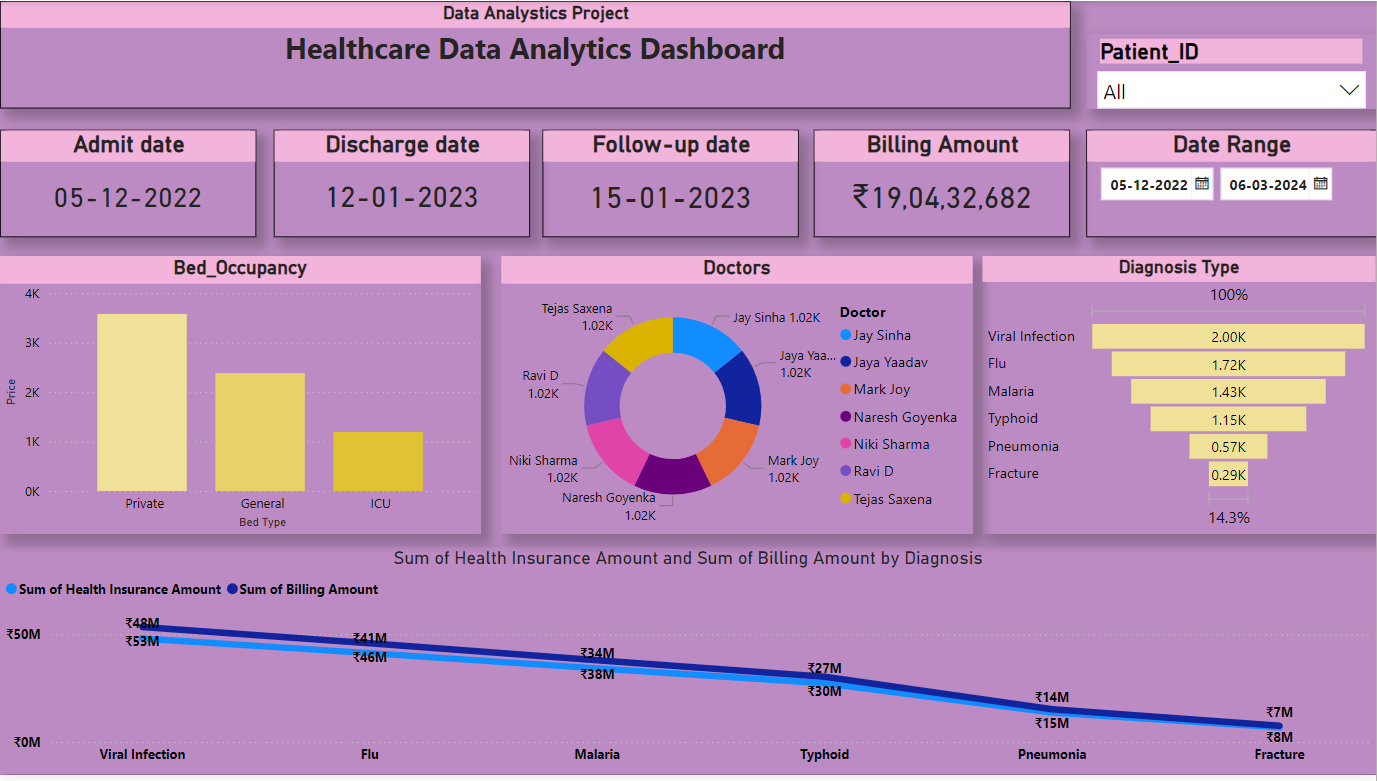

What the dashboard file says about the page in this screenshot:
{"tool":"powerbi","page":{"name":"Page 1","canvas":[1280,720],"ordinal":0},"visuals":[{"type":"slicer","fields":{"Values":["Sheet1.Patient_ID"]},"box":[1010,30,270,70],"z":0},{"type":"card","title":"Admit date","fields":{"Values":["Sheet1.Admit_Date"]},"box":[0,120,238.6,100],"z":1},{"type":"card","title":"Discharge date","fields":{"Values":["Sheet1.Discharge_Date"]},"box":[254.3,120,238.6,100],"z":2},{"type":"card","title":"Follow-up date","fields":{"Values":["Sheet1.Followup Date"]},"box":[504.3,120,238.6,100],"z":3},{"type":"card","title":"Billing Amount","fields":{"Values":["Sheet1.Billing Amount"]},"box":[757.1,120,238.6,100],"z":4},{"type":"textbox","title":"Data Analystics Project","box":[0,0,995.7,100],"z":5},{"type":"slicer","title":"Date Range","fields":{"Values":["Sheet1.Admit_Date"]},"box":[1010,120,270,100],"z":6},{"type":"columnChart","title":" Bed_Occupancy","fields":{"Category":["Sheet1.Bed_Occupancy"],"Y":["Sheet1.Bed_Occupancy"]},"box":[0,237.1,447.1,258.6],"z":7},{"type":"donutChart","title":" Doctors","fields":{"Category":["Sheet1.Doctor"],"Y":["Sheet1.Doctor"]},"box":[465.7,237.1,438.6,258.6],"z":8},{"type":"funnel","title":" Diagnosis Type","fields":{"Category":["Sheet1.Diagnosis"],"Y":["Sheet1.Diagnosis"]},"box":[914.3,237.1,365.7,258.6],"z":9},{"type":"lineChart","fields":{"Y":["Sheet1.Health Insurance Amount","Sheet1.Billing Amount"],"Category":["Sheet1.Diagnosis"]},"box":[0,508.6,1280,211.4],"z":10}]}

Visuals, with their boxes in screenshot pixels (x1, y1, x2, y2), scaled from the page's 1280x720 canvas onto the 1377x781 screenshot:
slicer - Sheet1.Patient_ID: bbox(1087, 33, 1376, 108)
"Admit date" card: bbox(0, 130, 257, 239)
"Discharge date" card: bbox(274, 130, 530, 239)
"Follow-up date" card: bbox(543, 130, 799, 239)
"Billing Amount" card: bbox(814, 130, 1071, 239)
"Data Analystics Project" textbox: bbox(0, 0, 1071, 108)
"Date Range" slicer: bbox(1087, 130, 1376, 239)
" Bed_Occupancy" columnChart: bbox(0, 257, 481, 538)
" Doctors" donutChart: bbox(501, 257, 973, 538)
" Diagnosis Type" funnel: bbox(984, 257, 1376, 538)
lineChart - Sheet1.Health Insurance Amount x Sheet1.Billing Amount: bbox(0, 552, 1376, 780)
